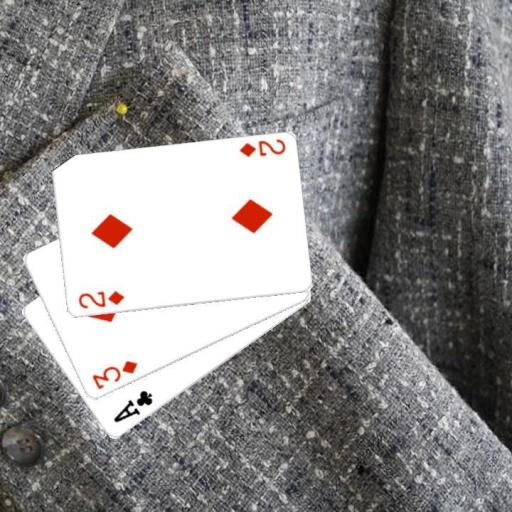2D: (236, 136, 287, 159), (75, 288, 125, 311)
3D: (89, 358, 140, 392)
AC: (110, 388, 155, 425)
